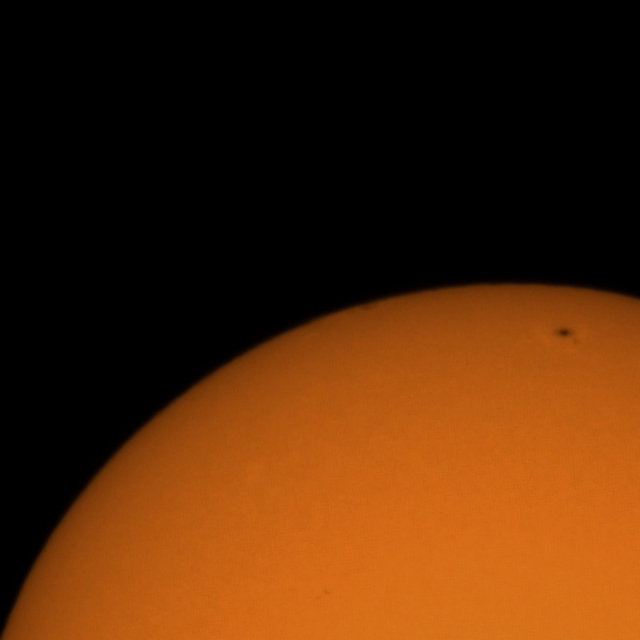sunspot: (552, 325, 581, 348), (314, 587, 332, 602)
